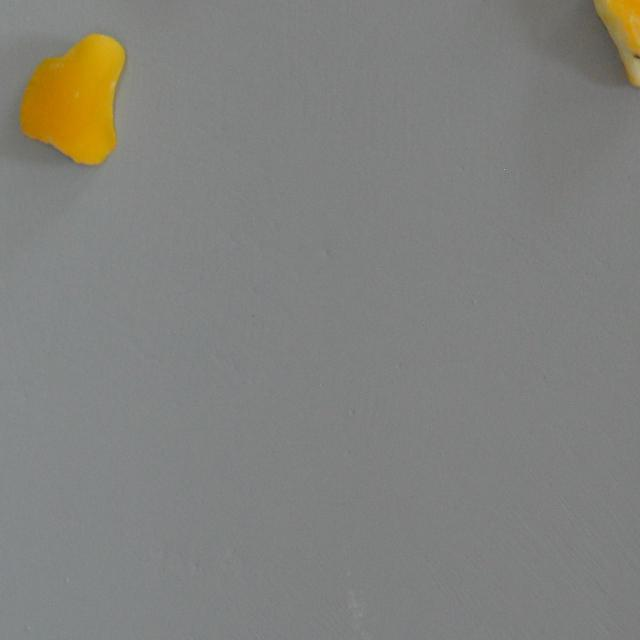no_canjicado: (13, 34, 127, 167)
punto_negro: (589, 0, 640, 96)
